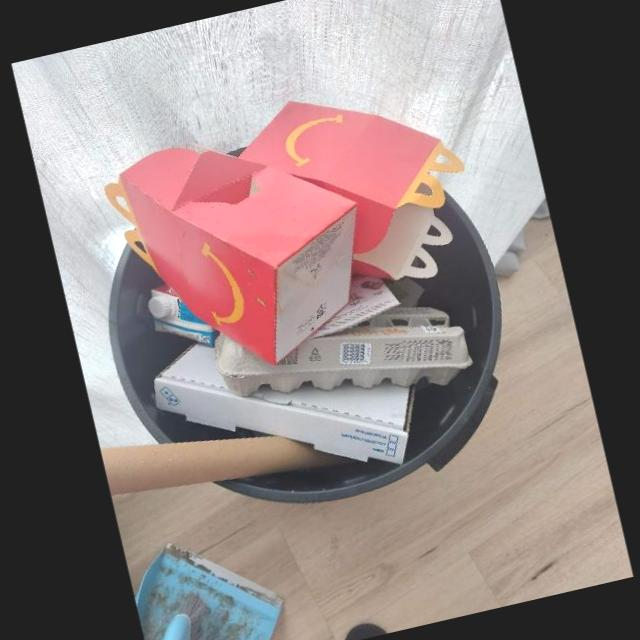carton: (104, 100, 465, 364), (153, 300, 419, 464), (214, 307, 473, 397)
vo_hop_sua: (148, 283, 218, 346)
